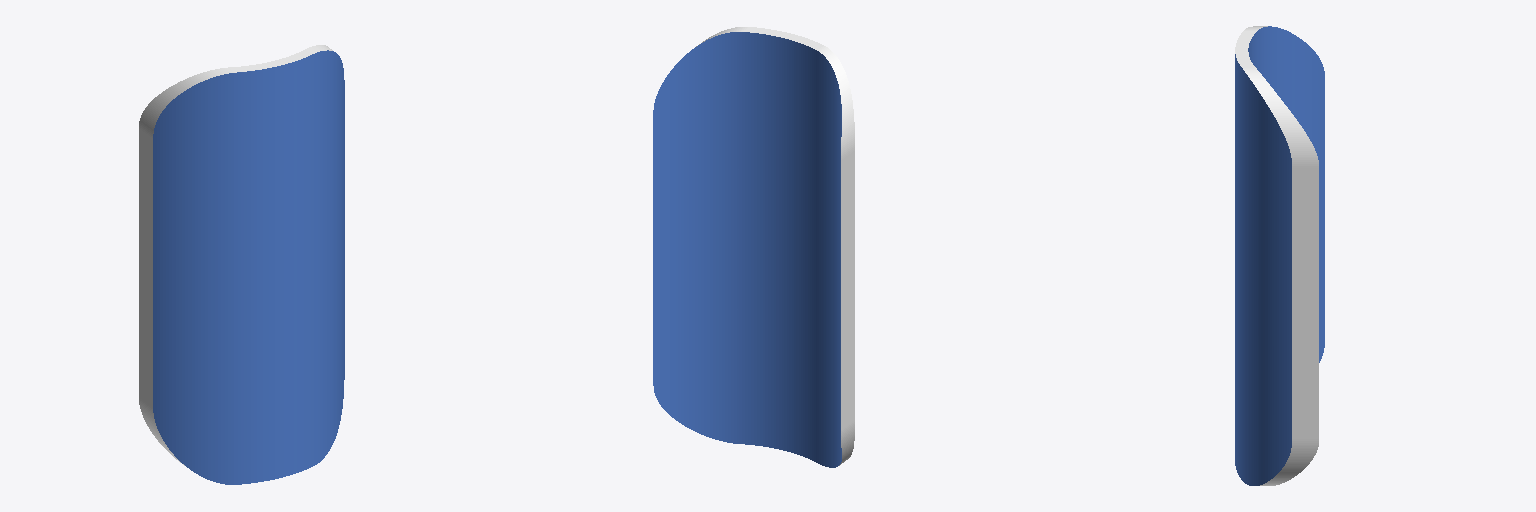
The model's file is cryo2.obj.
3 views of the same model, side by side, from view 1: azimuth 30°, elevation 25°; view 2: azimuth 150°, elevation 25°; view 3: azimuth 270°, elevation 25° (orthographic).
Visible parts, largest first — view 1: cryo2_g_47547-Translucent_Glass_Blue, cryo2_g_47547-Default_Material; view 2: cryo2_g_47547-Translucent_Glass_Blue, cryo2_g_47547-Default_Material; view 3: cryo2_g_47547-Translucent_Glass_Blue, cryo2_g_47547-Default_Material.
Part boxes in pixels (x1,y1,x2,y2): cryo2_g_47547-Translucent_Glass_Blue: (153, 50, 344, 484); cryo2_g_47547-Default_Material: (139, 45, 332, 465); cryo2_g_47547-Translucent_Glass_Blue: (653, 32, 841, 467); cryo2_g_47547-Default_Material: (696, 27, 854, 465); cryo2_g_47547-Translucent_Glass_Blue: (1235, 26, 1324, 485); cryo2_g_47547-Default_Material: (1235, 26, 1318, 485).
Bounding box in the file's own units: 0.833 × 1.73 × 0.3403.